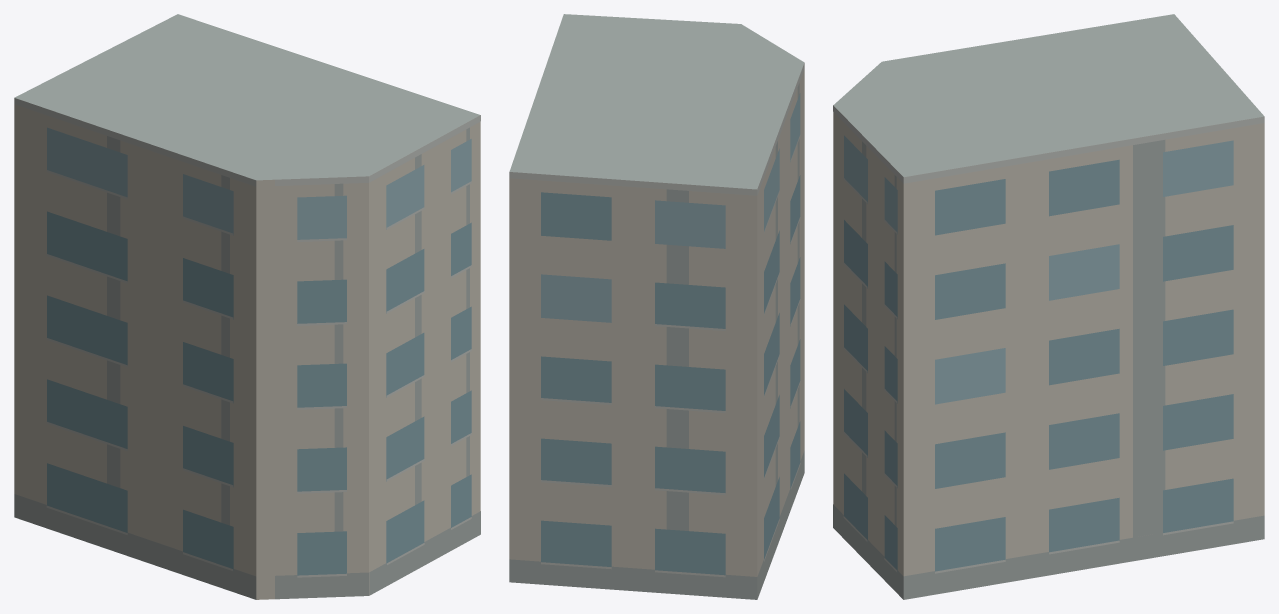
File: survey-upis-32856351.glb
3 renders of one model, left to right at view 1: azimuth 30°, elevation 25°; view 2: azimuth 150°, elevation 25°; view 3: azimuth 270°, elevation 25°, orthographic. The views are drawn at different scales.
Parts seen in each view (by area): view 1: survey-upis-32856351.tmp; view 2: survey-upis-32856351.tmp; view 3: survey-upis-32856351.tmp.
Boxes of the visible parts, x1,y1,x2,y2 form: survey-upis-32856351.tmp: (14, 14, 480, 599); survey-upis-32856351.tmp: (509, 14, 804, 599); survey-upis-32856351.tmp: (833, 14, 1264, 599).
Bounding box in the file's own units: 13.18 × 15.9 × 14.72.
